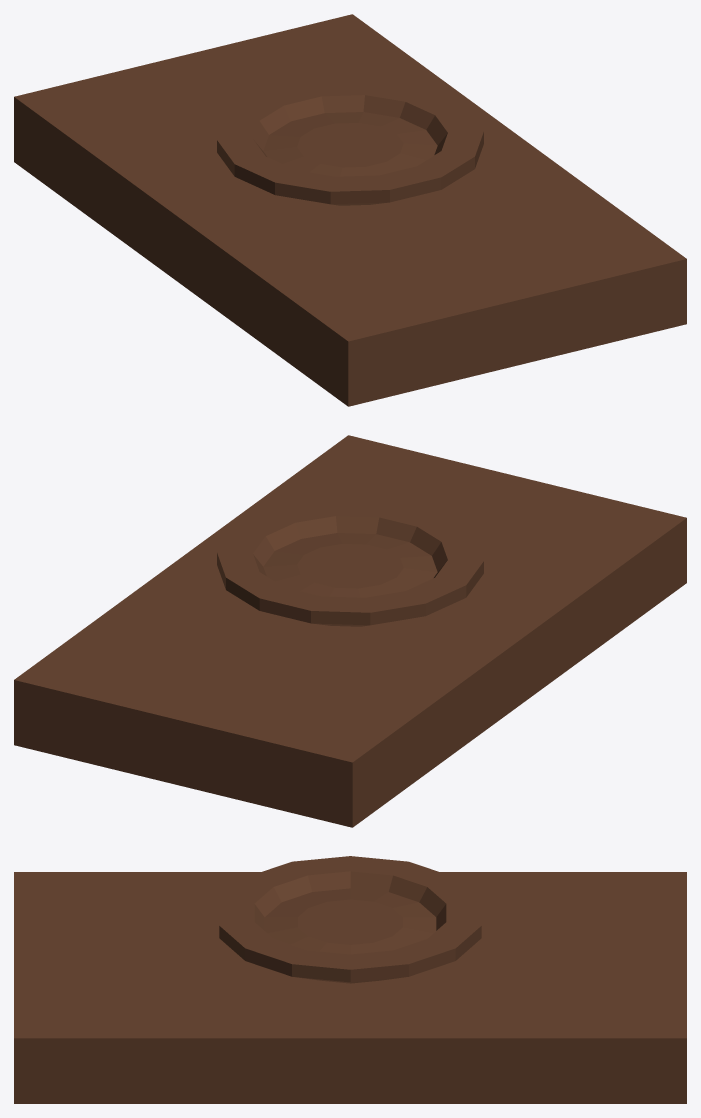
Rendered from Board__Trencher.fbx.
The picture shows the model from 3 angles, top to bottom: view 1: azimuth 30°, elevation 25°; view 2: azimuth 150°, elevation 25°; view 3: azimuth 270°, elevation 25°; orthographic projection.
Visible parts, largest first — view 1: Board__Trencher; view 2: Board__Trencher; view 3: Board__Trencher.
Boxes of the visible parts, x1=… form: Board__Trencher: x1=14, y1=14, x2=686, y2=406; Board__Trencher: x1=14, y1=435, x2=686, y2=827; Board__Trencher: x1=14, y1=856, x2=686, y2=1103.
Bounding box in the file's own units: 38 × 11.5 × 65.
Materials: 1 (1 with a texture image).
